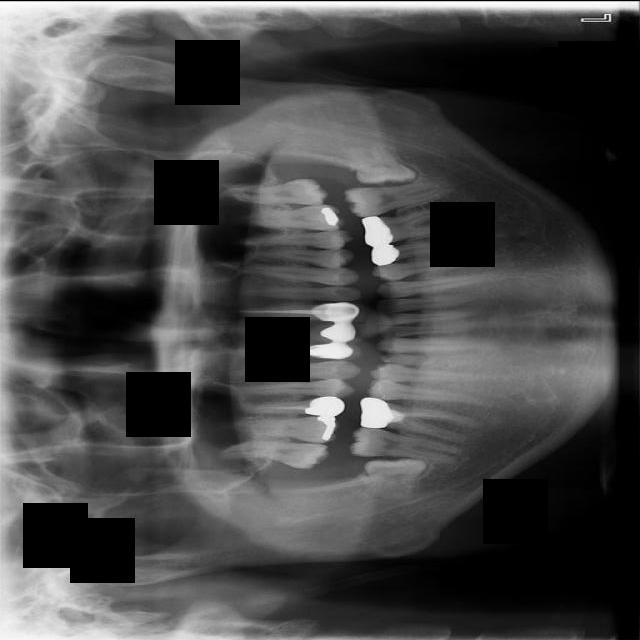52: (298, 287, 374, 368), (298, 202, 345, 231), (361, 213, 394, 248), (360, 396, 395, 428), (296, 415, 337, 442), (305, 392, 345, 418), (368, 241, 402, 267)
73: (380, 400, 470, 442), (239, 303, 324, 322), (243, 397, 314, 419), (239, 338, 316, 357), (520, 78, 540, 86)
BioHorizons Implant: (228, 175, 328, 205)
Biomet 3i Implant: (349, 139, 416, 185)
Blue Sky Bio Implant: (343, 177, 456, 219)
Caries: (214, 434, 331, 470)
Implant: (350, 425, 461, 462)
Keystone Dental Implant: (363, 456, 428, 500)
